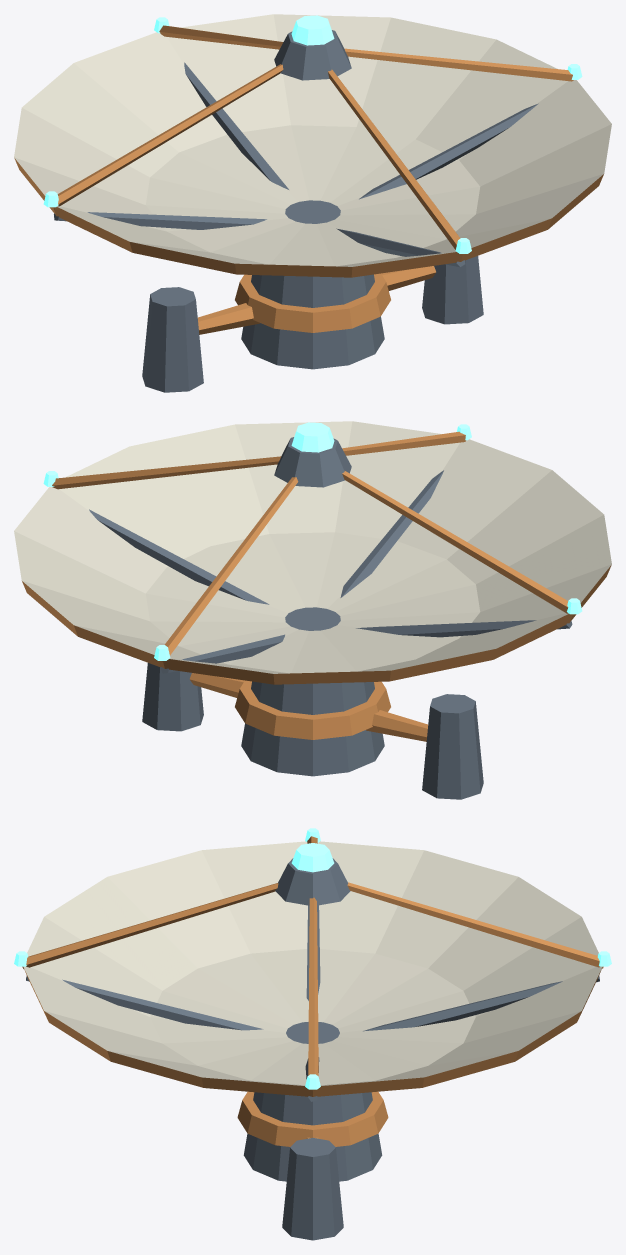
Rendered from ProximaReceiver.gltf.
3 renders of one model, top to bottom at view 1: azimuth 30°, elevation 25°; view 2: azimuth 150°, elevation 25°; view 3: azimuth 270°, elevation 25°, orthographic. The views are drawn at different scales.
Parts seen in each view (by area): view 1: Proxima Receiver; view 2: Proxima Receiver; view 3: Proxima Receiver.
Boxes of the visible parts, x1,y1,x2,y2 form: Proxima Receiver: (14,14,611,392); Proxima Receiver: (14,421,611,799); Proxima Receiver: (14,828,611,1240).
Bounding box in the file's own units: 17.2 × 9.93 × 17.26.
